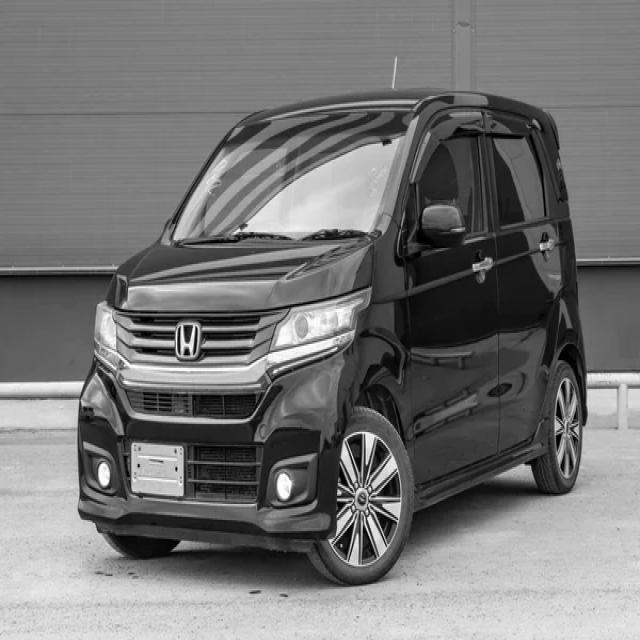Car: (79, 91, 589, 585)
